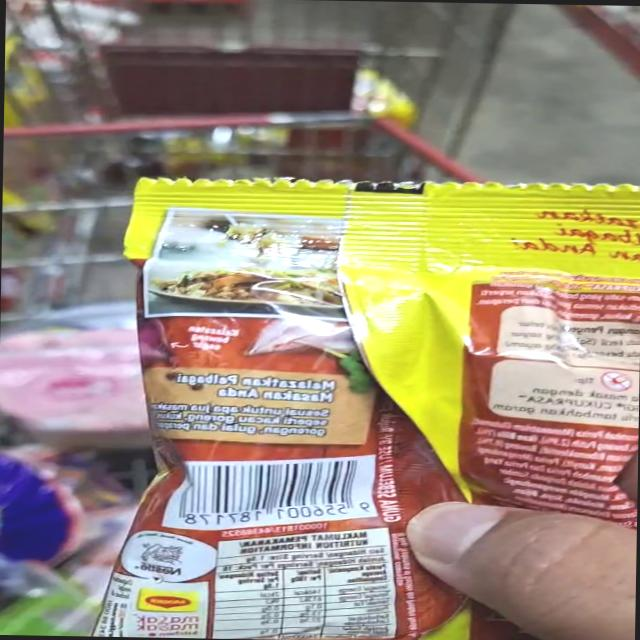Maggi Cukup Rasa: (91, 157, 640, 640)
